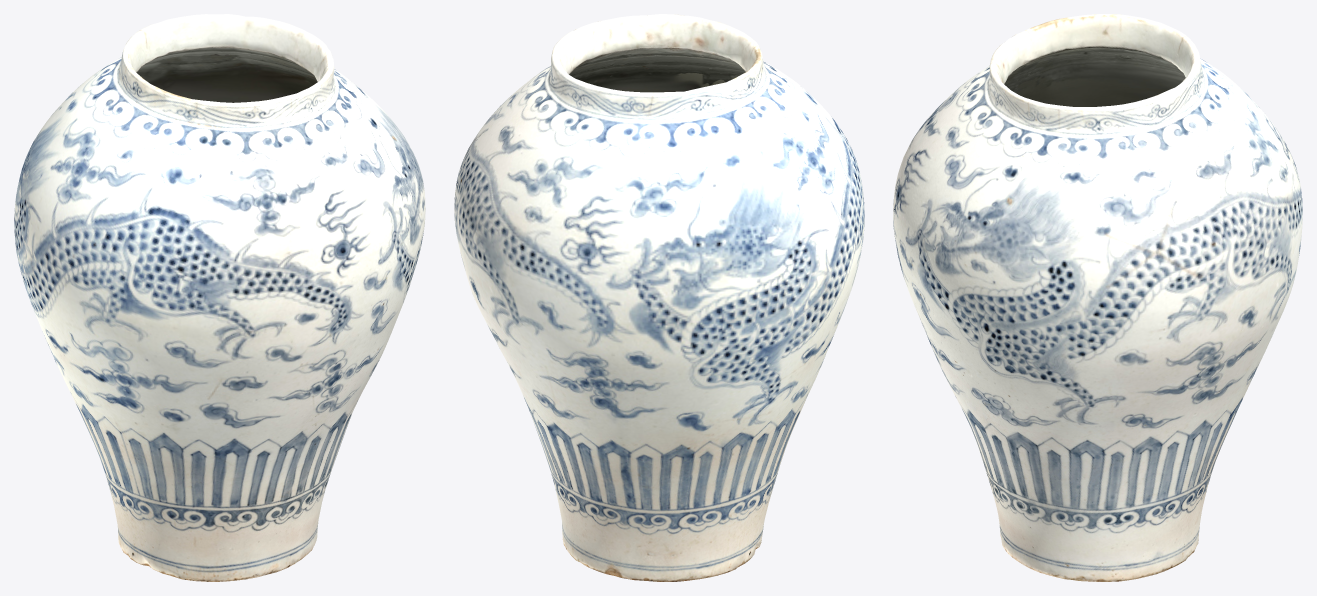
Rendered from dragon.glb.
3 views of the same model, side by side, from view 1: azimuth 30°, elevation 25°; view 2: azimuth 150°, elevation 25°; view 3: azimuth 270°, elevation 25° (orthographic).
Visible parts, largest first — view 1: Object_2; view 2: Object_2; view 3: Object_2.
Part boxes in pixels (x1,y1,x2,y2): Object_2: [14, 14, 425, 581]; Object_2: [454, 14, 864, 581]; Object_2: [893, 14, 1302, 581].
Size of the model in its own units: 0.3039 by 0.3984 by 0.3023.
1 material, 1 textured.
